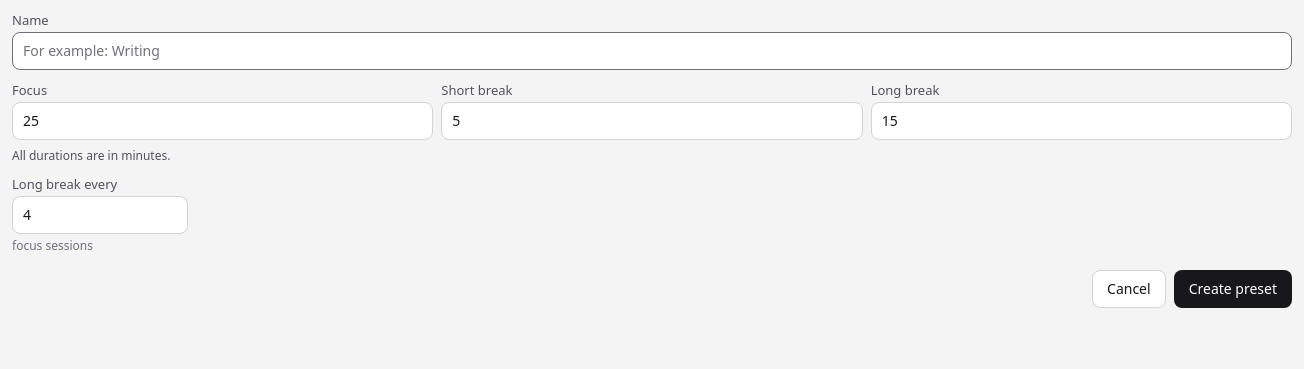
Scenario: PresetForm › rejects a duration outside 1–240 minutes
This screenshot has width=1304, height=369.
In the field labelled "Name": (652, 51) [12,32,1292,70], type "Sprint"
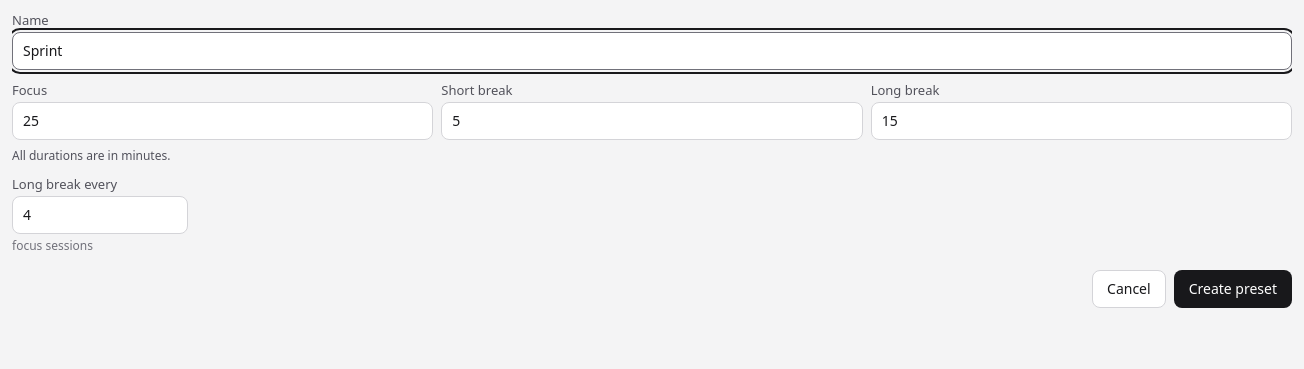
Replace the text in the number field labelled "Focus" with "0": (223, 121) [12,102,433,140]
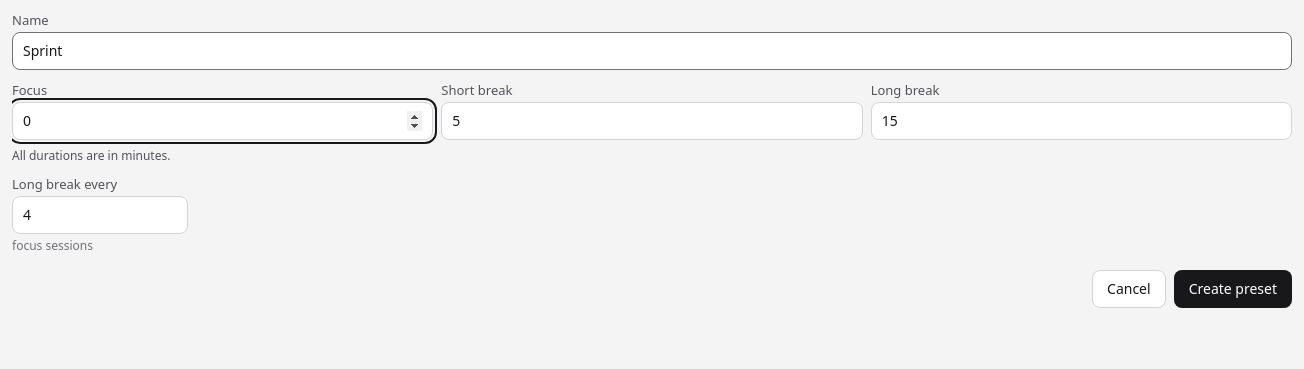
Click the button "Create preset": (1233, 289) [1174,270,1292,308]
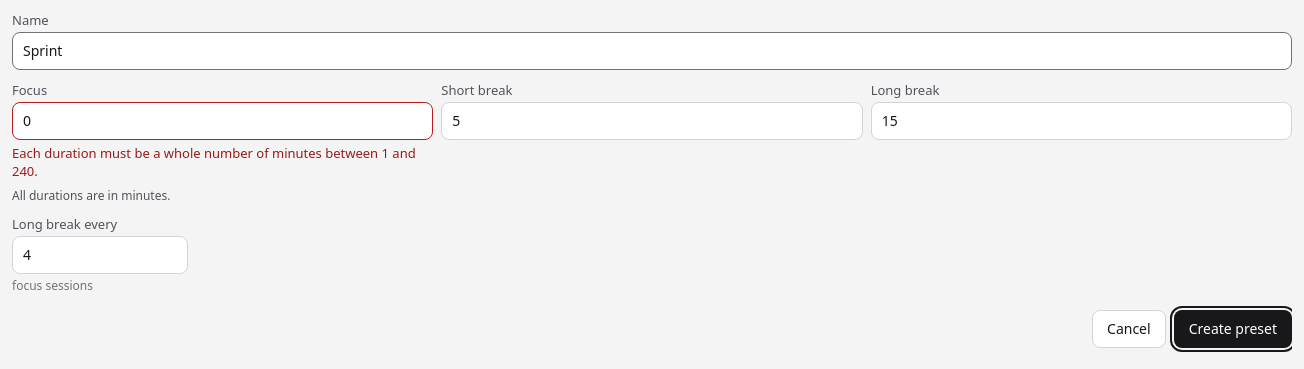
Now the message reads "Each duration must be a whole number of minutes between 1 and 240.", box [12,144,416,180]
